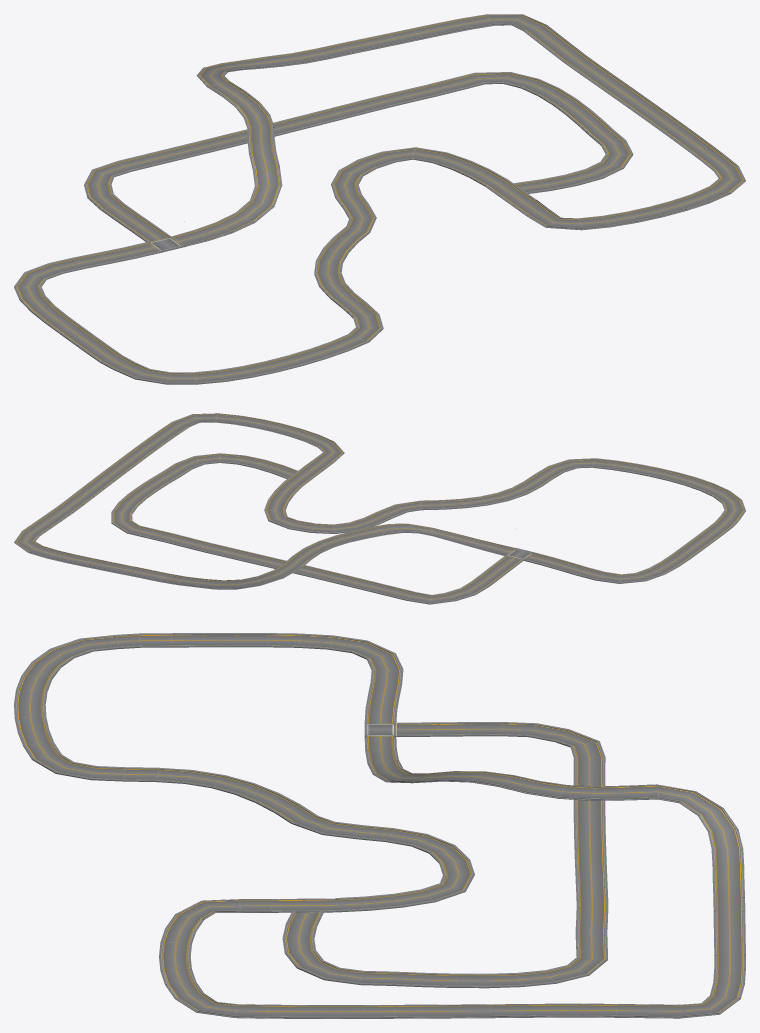
Rendered from carrearre (1).fbx.
3 renders of one model, top to bottom at view 1: azimuth 30°, elevation 25°; view 2: azimuth 150°, elevation 25°; view 3: azimuth 270°, elevation 25°, orthographic. The views are drawn at different scales.
Visible parts, largest first — view 1: NormalRoad_Clone__1.004; view 2: NormalRoad_Clone__1.004; view 3: NormalRoad_Clone__1.004.
Part boxes in pixels (left/top/right/bottom): NormalRoad_Clone__1.004: left=14, top=14, right=745, bottom=384; NormalRoad_Clone__1.004: left=14, top=413, right=745, bottom=604; NormalRoad_Clone__1.004: left=14, top=633, right=745, bottom=1018.
Bounding box in the file's own units: 14031 × 634 × 11275.
Materials: 2 (2 with a texture image).
